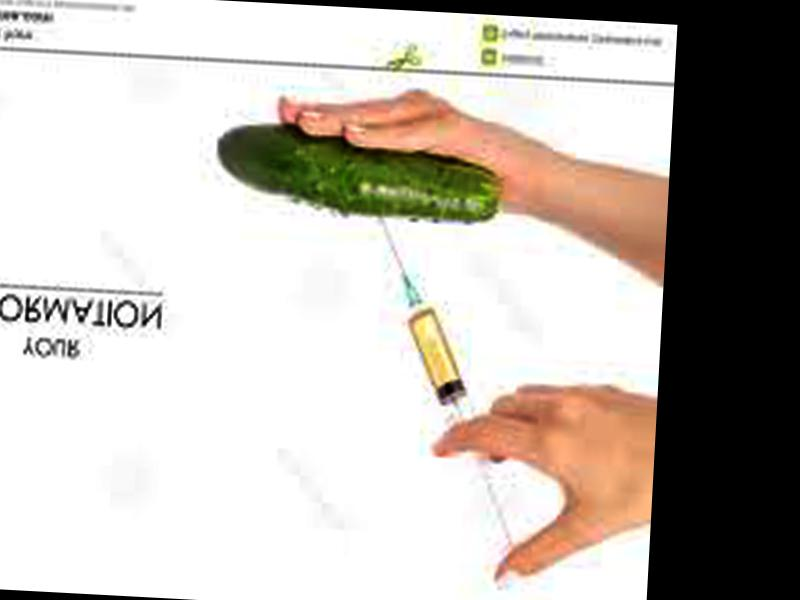Cucumber: (214, 123, 503, 222)
